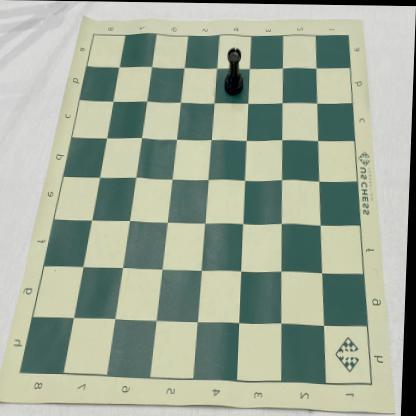black-rook: (225, 46, 245, 95)
